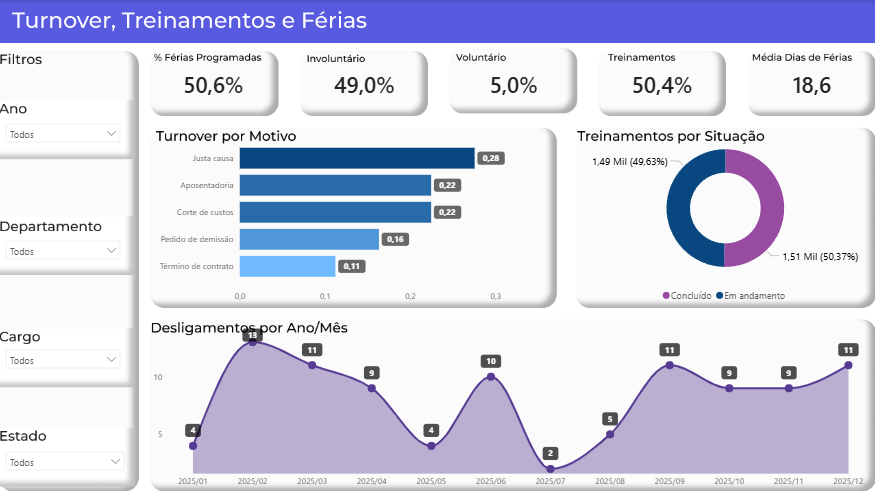

This screenshot's page, from the dashboard's own definition file:
{"tool":"powerbi","page":{"name":"Turnover, treinamentos, férias","canvas":[1280,720],"ordinal":2},"visuals":[{"type":"cardVisual","title":"Média Dias de Férias","fields":{"Data":["Avg(Ferias.Dias)"]},"box":[1092.9,74.5,187.1,95.6],"z":0},{"type":"cardVisual","title":"Treinamentos","fields":{"Data":["Calculo.Taxa Conclusao Treinamentos %"]},"box":[876.3,74.5,184.3,95.6],"z":1},{"type":"cardVisual","title":"Involuntário","fields":{"Data":["Calculo.Turnover Involuntario %"]},"box":[441.7,74.5,182.9,95.6],"z":2},{"type":"cardVisual","title":"Voluntário","fields":{"Data":["Calculo.Turnover Voluntario %"]},"box":[661.1,74.5,180,95.6],"z":3},{"type":"barChart","title":"Turnover por Motivo","fields":{"Category":["Desligamentos.Motivo"],"Y":["Calculo.Turnover por Motivo %"]},"box":[220.8,187.1,593.6,263],"z":4},{"type":"lineChart","fields":{"Y":["Calculo.Qtd Desligamentos"],"Category":["Calendario.AnoMes"]},"box":[220.8,468.4,1059.2,251.8],"z":5},{"type":"donutChart","title":"Treinamentos por Situação","fields":{"Y":["CountNonNull(Treinamentos.Situacao)"],"Category":["Treinamentos.Situacao"]},"box":[841.1,187.1,438.9,263],"z":6},{"type":"cardVisual","title":"% Férias Programadas","fields":{"Data":["Calculo.% Ferias Programadas"]},"box":[220.8,74.5,185.7,95.6],"z":7},{"type":"slicer","fields":{"Values":["Calendario.Ano"]},"box":[0,170.2,187.1,57.7],"z":8},{"type":"slicer","fields":{"Values":["Funcionarios.Departamento"]},"box":[0,341.8,187.1,57.7],"z":9},{"type":"slicer","fields":{"Values":["Funcionarios.Cargo"]},"box":[0,500.7,187.1,63.3],"z":10},{"type":"slicer","title":"Estado","fields":{"Values":["Funcionarios.Estado"]},"box":[0,649.8,192.7,70.3],"z":11}]}

Visuals, with their boxes in screenshot pixels (x1, y1, x2, y2), scaled from the page's 1280x720 canvas onto the 875x491 screenshot:
"Média Dias de Férias" cardVisual: {"x1": 747, "y1": 51, "x2": 874, "y2": 116}
"Treinamentos" cardVisual: {"x1": 599, "y1": 51, "x2": 725, "y2": 116}
"Involuntário" cardVisual: {"x1": 302, "y1": 51, "x2": 427, "y2": 116}
"Voluntário" cardVisual: {"x1": 452, "y1": 51, "x2": 575, "y2": 116}
"Turnover por Motivo" barChart: {"x1": 151, "y1": 128, "x2": 557, "y2": 307}
lineChart - Calculo.Qtd Desligamentos x Calendario.AnoMes: {"x1": 151, "y1": 319, "x2": 874, "y2": 490}
"Treinamentos por Situação" donutChart: {"x1": 575, "y1": 128, "x2": 874, "y2": 307}
"% Férias Programadas" cardVisual: {"x1": 151, "y1": 51, "x2": 278, "y2": 116}
slicer - Calendario.Ano: {"x1": 0, "y1": 116, "x2": 128, "y2": 155}
slicer - Funcionarios.Departamento: {"x1": 0, "y1": 233, "x2": 128, "y2": 272}
slicer - Funcionarios.Cargo: {"x1": 0, "y1": 341, "x2": 128, "y2": 385}
"Estado" slicer: {"x1": 0, "y1": 443, "x2": 132, "y2": 490}
